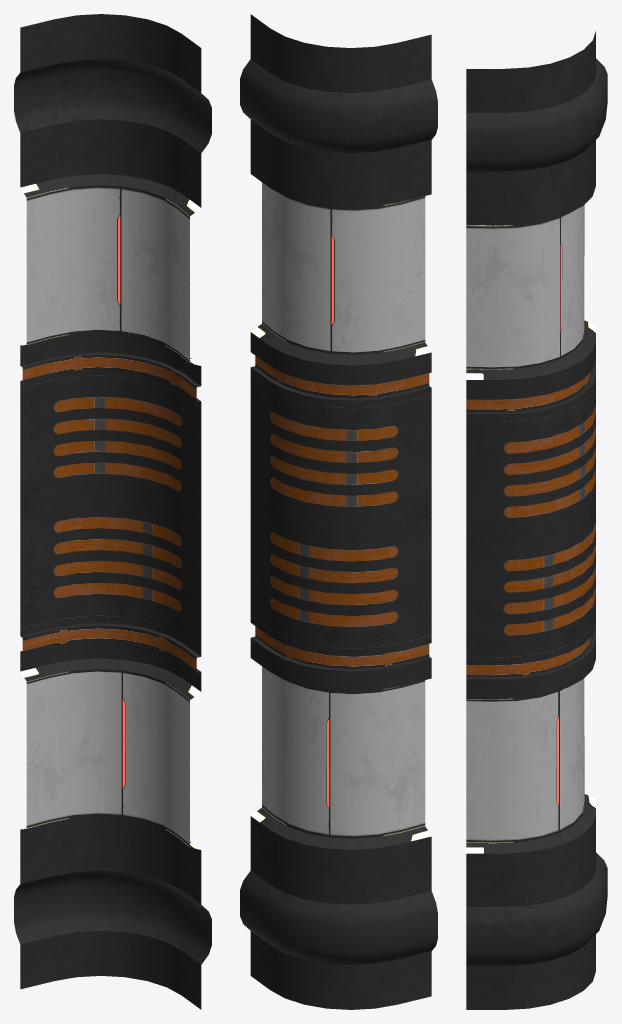
Rendered from MBendWall.fbx.
3 views of the same model, side by side, from view 1: azimuth 30°, elevation 25°; view 2: azimuth 210°, elevation 25°; view 3: azimuth 270°, elevation 25° (orthographic). The views are drawn at different scales.
Parts seen in each view (by area): view 1: MBendWall; view 2: MBendWall; view 3: MBendWall.
Boxes of the visible parts, x1,y1,x2,y2 form: MBendWall: (14,14,211,1009); MBendWall: (240,14,437,1009); MBendWall: (466,31,607,1009).
Size of the model in its own units: 54.55 by 400 by 54.55.
